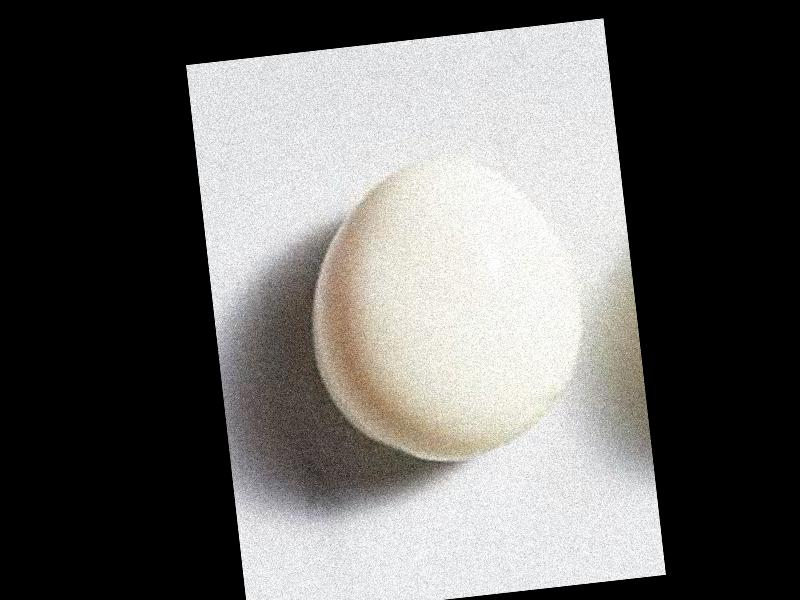Eggs: (295, 147, 595, 476)
